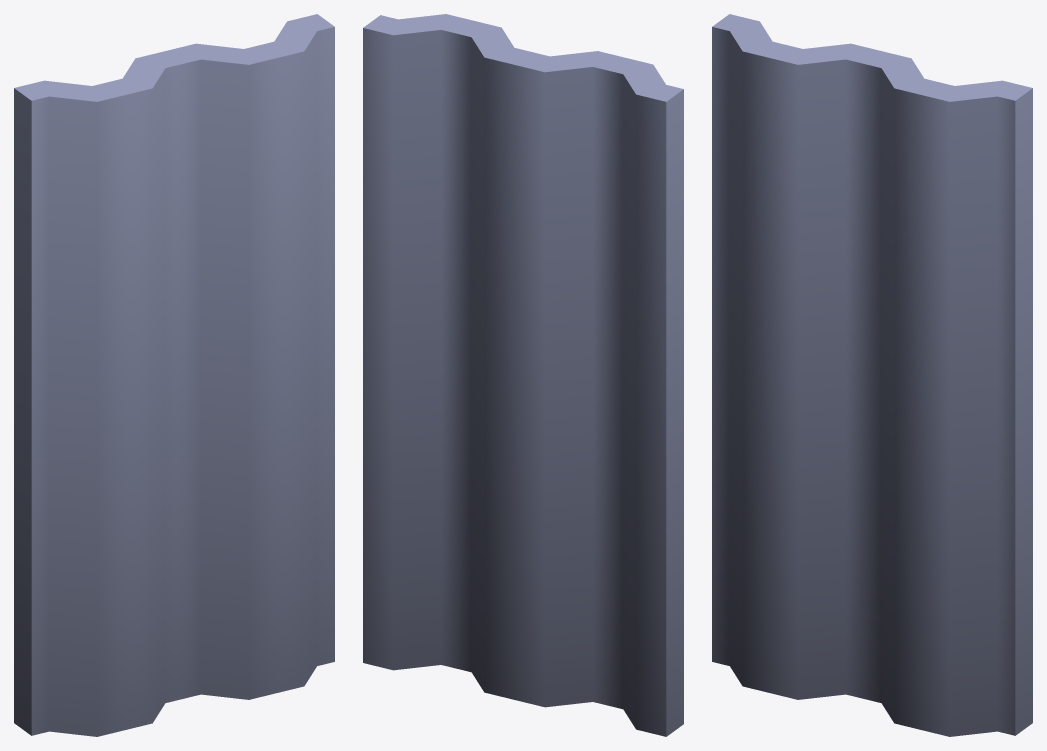
The model's file is metal-panel-narrow.glb.
The picture shows the model from 3 angles, left to right: view 1: azimuth 30°, elevation 25°; view 2: azimuth 150°, elevation 25°; view 3: azimuth 330°, elevation 25°; orthographic projection.
Visible parts, largest first — view 1: metal-panel-narrow; view 2: metal-panel-narrow; view 3: metal-panel-narrow.
Boxes of the visible parts, x1,y1,x2,y2 form: metal-panel-narrow: (14,14,334,736); metal-panel-narrow: (363,14,683,736); metal-panel-narrow: (712,14,1032,736).
Bounding box in the file's own units: 0.25 × 0.5 × 0.05.
